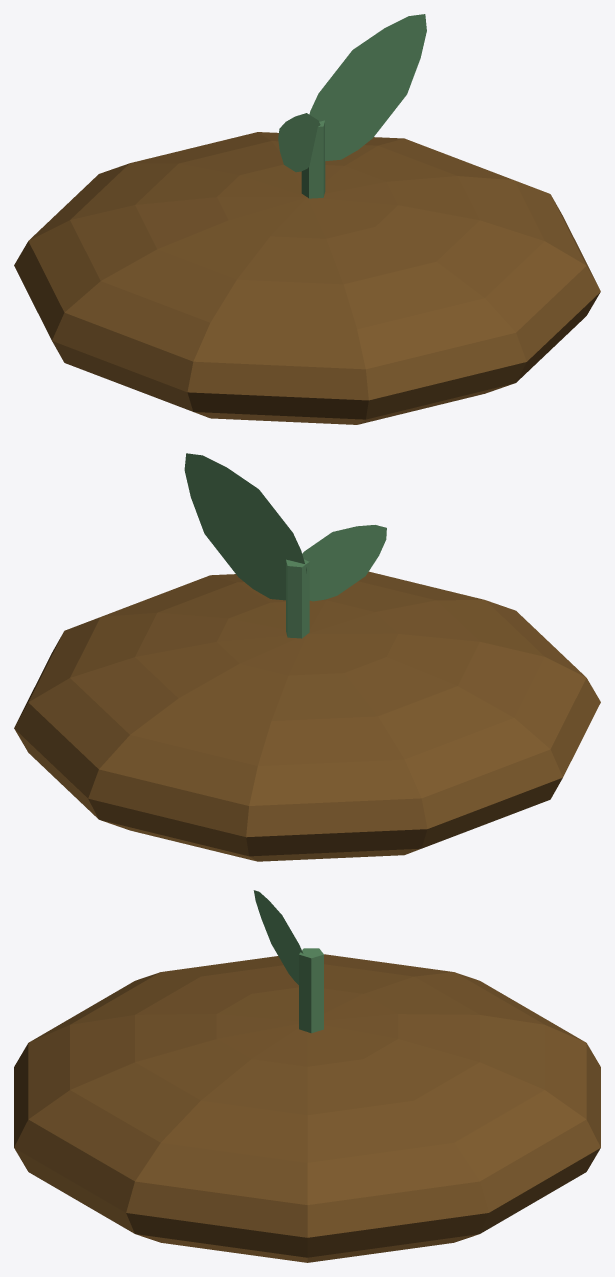
Rendered from Plant_1.fbx.
3 renders of one model, top to bottom at view 1: azimuth 30°, elevation 25°; view 2: azimuth 150°, elevation 25°; view 3: azimuth 270°, elevation 25°, orthographic. The views are drawn at different scales.
Visible parts, largest first — view 1: Plant1, pPlane3, pPlane4, pCylinder9; view 2: Plant1, pPlane3, pPlane4, pCylinder9; view 3: Plant1, pCylinder9, pPlane4.
Part boxes in pixels (x1,y1,x2,y2): Plant1: (14,132,600,424); pPlane3: (309,14,426,161); pPlane4: (278,113,320,172); pCylinder9: (301,120,325,198); Plant1: (14,571,600,861); pPlane3: (184,453,306,600); pPlane4: (302,525,386,601); pCylinder9: (286,559,309,638); Plant1: (14,954,600,1262); pCylinder9: (299,948,323,1033); pPlane4: (253,890,303,984).
Size of the model in its own units: 0.5394 by 0.3199 by 0.513.
